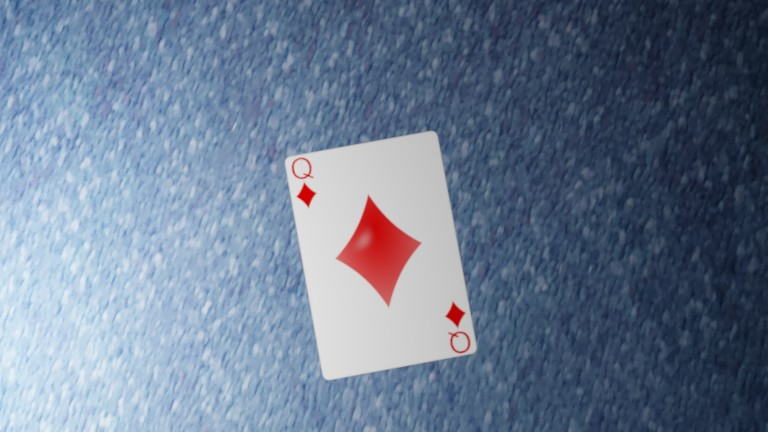queen_of_diamonds: (438, 297, 476, 354), (286, 156, 323, 212)
